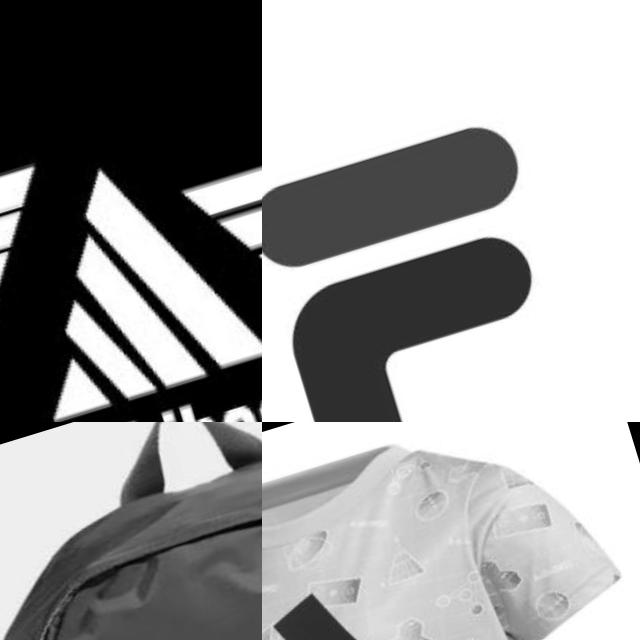ADIDAS_fake: (0, 113, 262, 422), (71, 370, 262, 422)
ADIDAS_original: (262, 547, 489, 640)
FILA_original: (262, 49, 634, 422)
